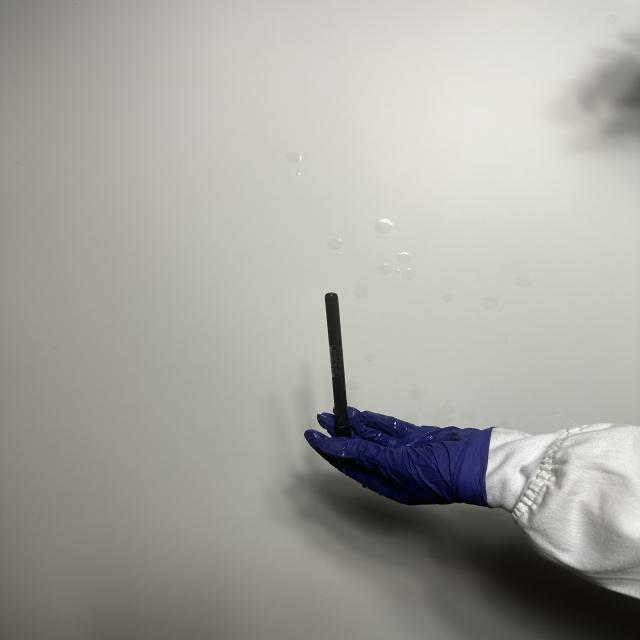gloves_contaminated: (305, 409, 492, 506)
